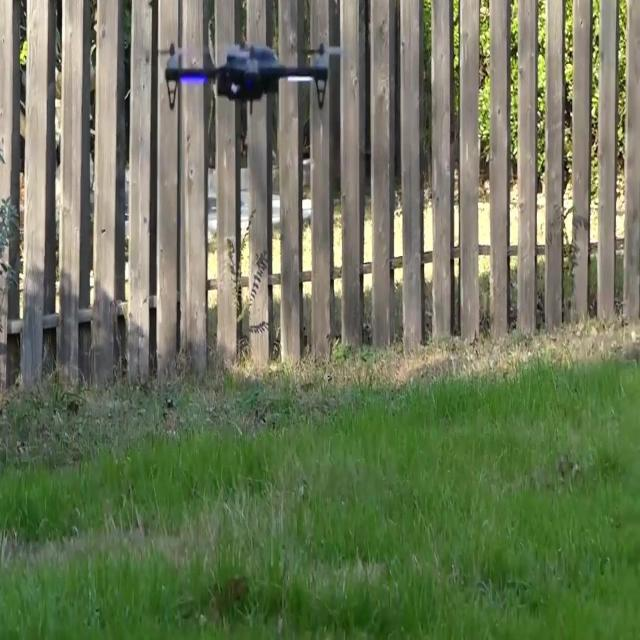drone: (162, 40, 344, 122)
